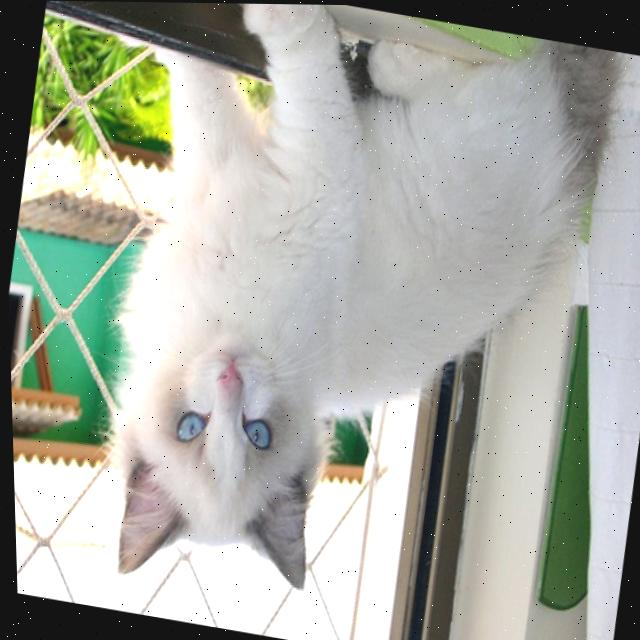Ragdoll: (61, 1, 637, 640)
